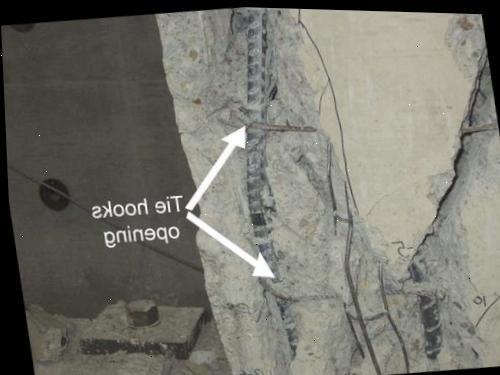exposed_rebar: (246, 8, 279, 279), (409, 262, 445, 359), (278, 304, 295, 353)
spalling: (152, 7, 492, 375)
